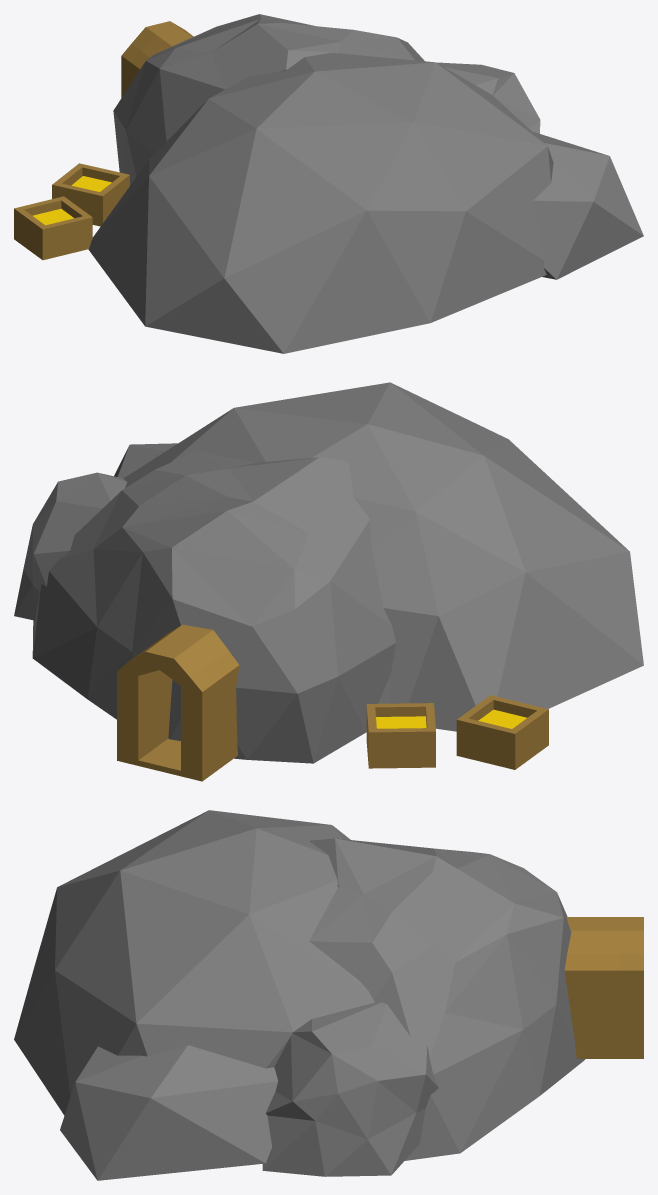
Rendered from GoldMine.fbx.
3 views of the same model, one above another, from view 1: azimuth 30°, elevation 25°; view 2: azimuth 150°, elevation 25°; view 3: azimuth 270°, elevation 25° (orthographic). The views are drawn at different scales.
Visible parts, largest first — view 1: GoldMine; view 2: GoldMine; view 3: GoldMine.
Boxes of the visible parts, left/top/right/bottom form: GoldMine: left=14, top=14, right=643, bottom=353; GoldMine: left=14, top=382, right=643, bottom=781; GoldMine: left=14, top=810, right=643, bottom=1180.
Bounding box in the file's own units: 188 × 72.84 × 187.
